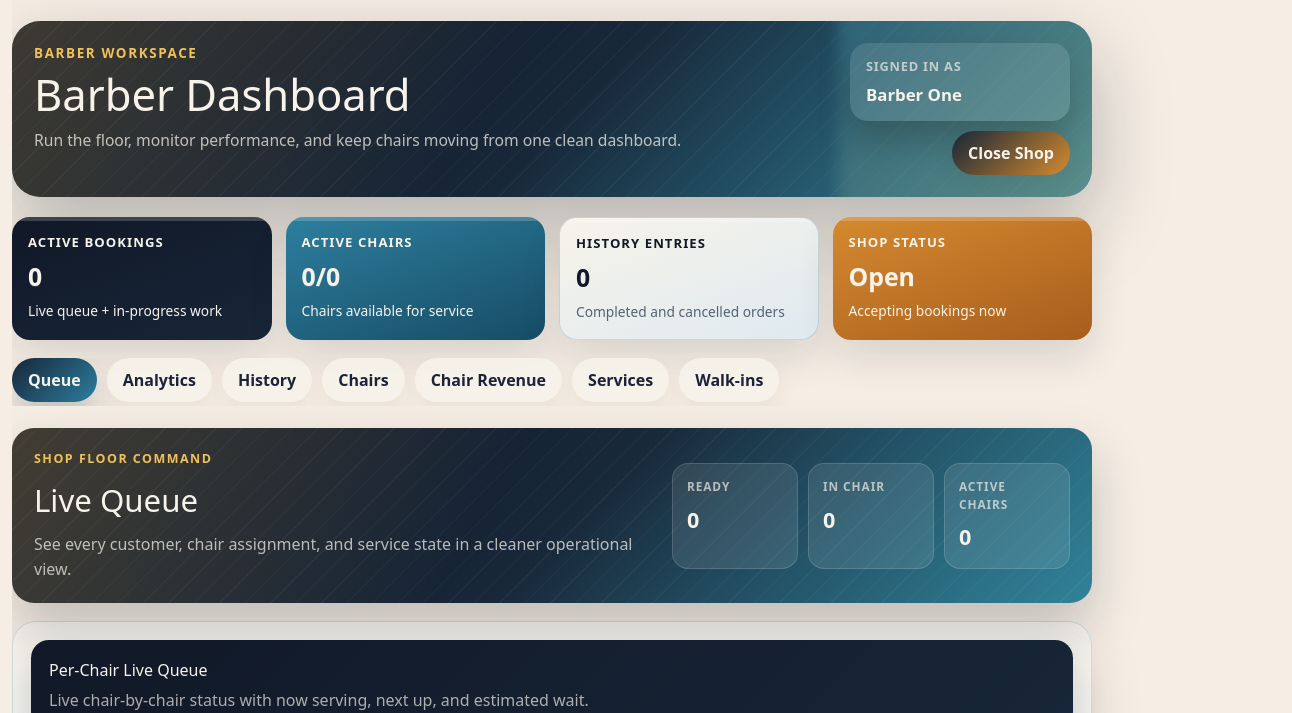
BarberDashboard navigation › reuses shared date filters in the Chair Revenue tab and renders zero revenue state
The image size is (1292, 713).
Click the button "Chair Revenue" at (488, 380), box [415, 358, 562, 402]
(page scrolled)
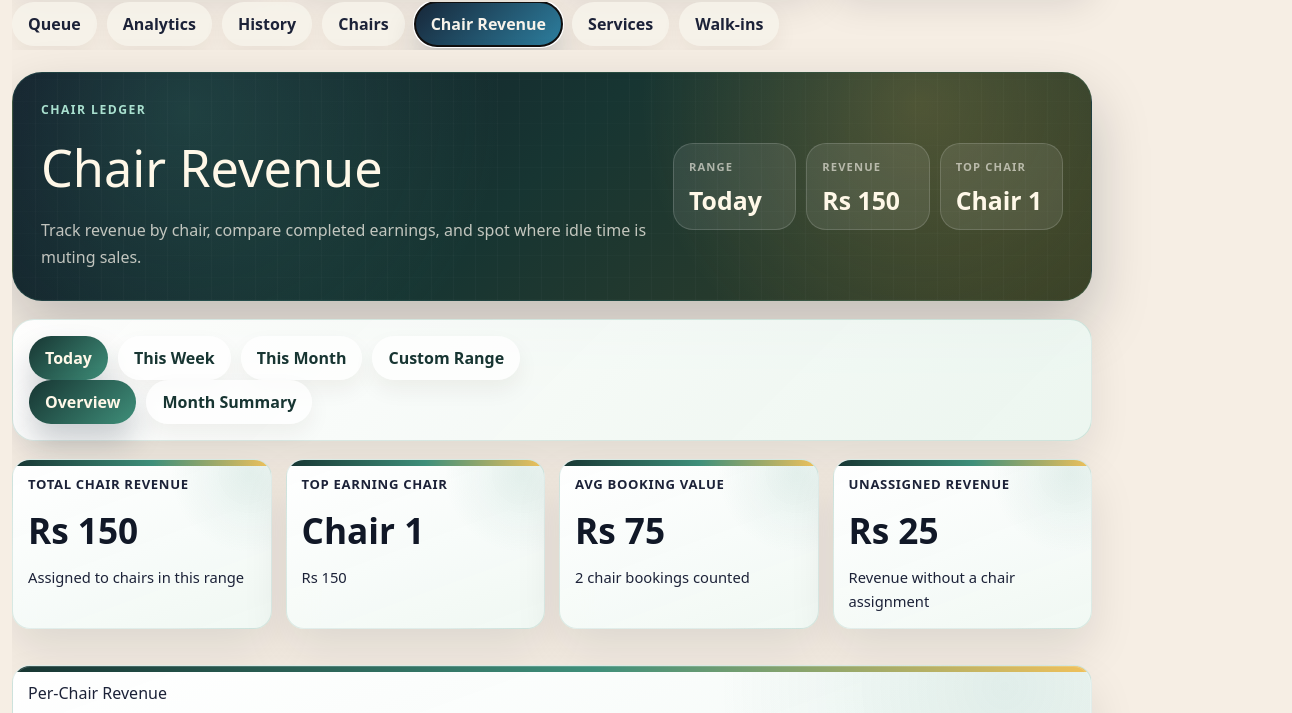
Expected: the heading "Per-Chair Revenue" is shown, [28, 682, 167, 704]
Expected: the text "Total Chair Revenue" is shown, [28, 474, 189, 492]
Expected: the text "Rs 150" below "Top Chair" is shown, [822, 183, 900, 217]
Click the button "Custom Range" at (446, 358), box [372, 336, 520, 380]
(page scrolled)
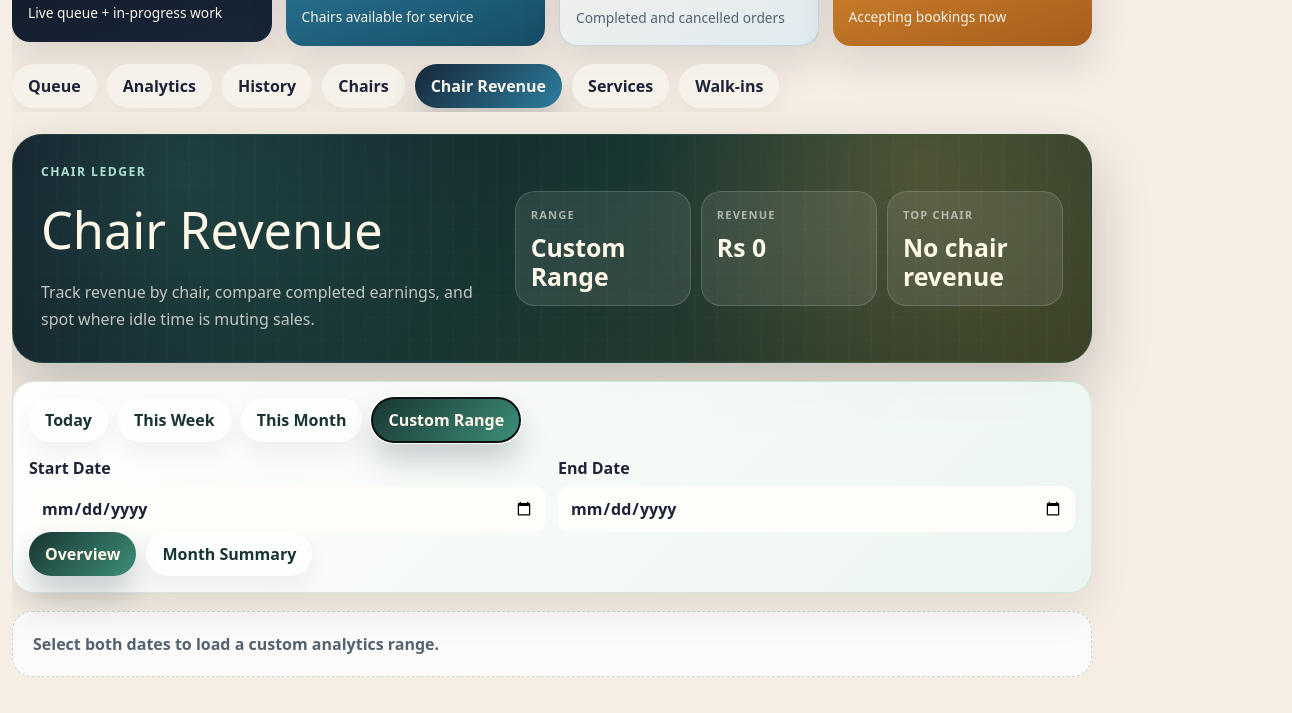
Expected: the text "Select both dates to load a custom analytics range." is shown, [12, 610, 1092, 676]
Type "2026-05-01" into the date field named "Analytics start date" at (288, 508), box [29, 486, 546, 532]
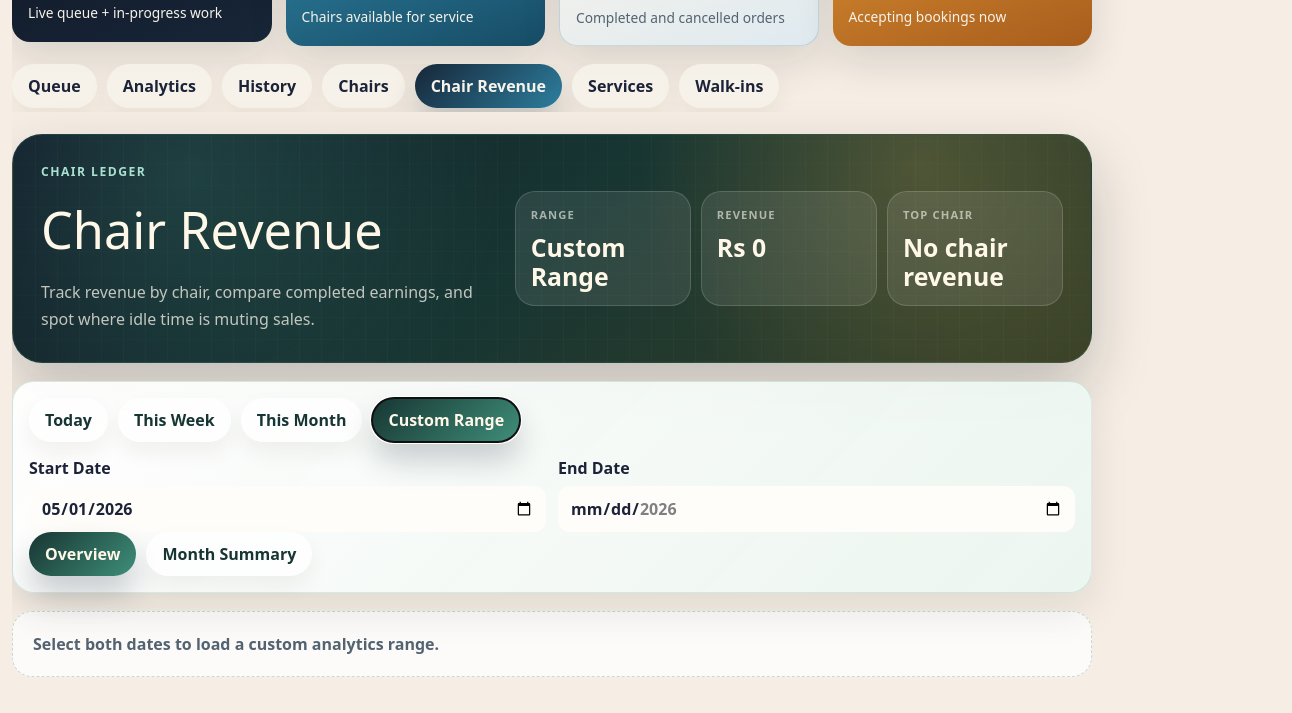
Type "2026-05-02" into the date field named "Analytics end date" at (816, 508), box [558, 486, 1075, 532]
(page scrolled)
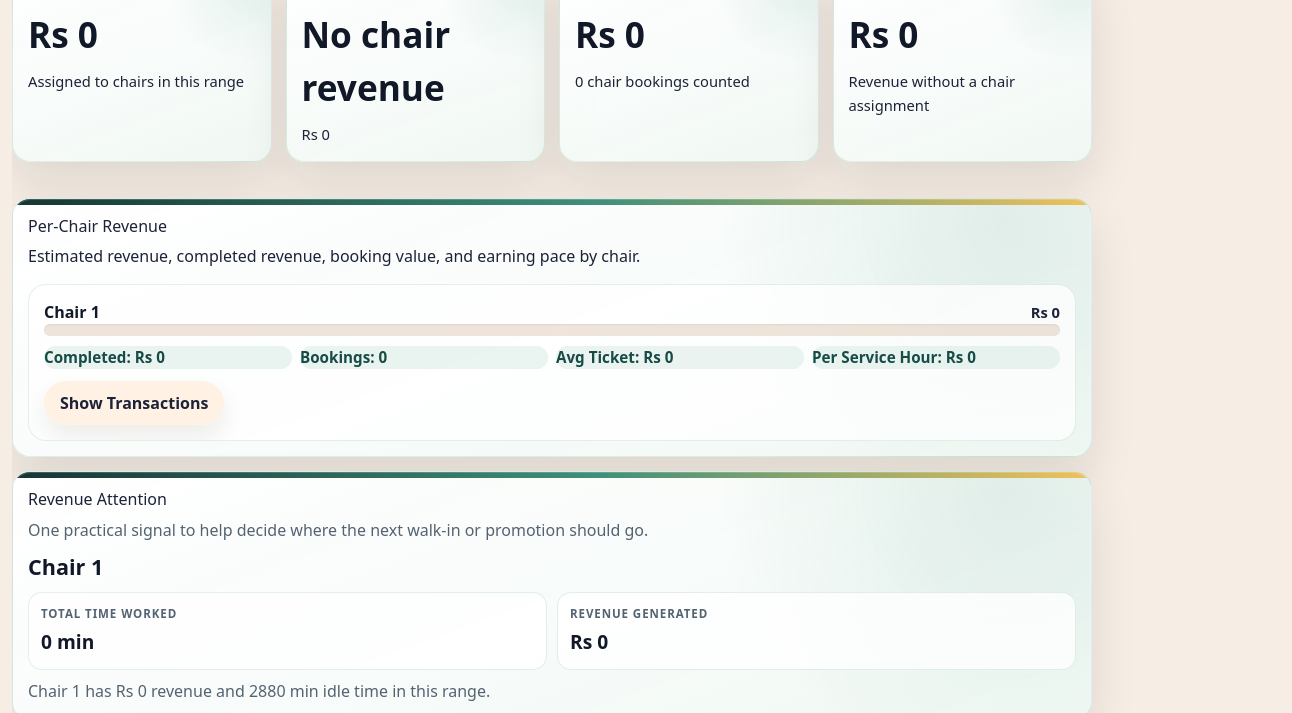
Expected: the text "Avg Ticket: Rs 0" is shown, [556, 346, 804, 369]
Expected: the text "Per Service Hour: Rs 0" is shown, [812, 346, 1060, 369]
